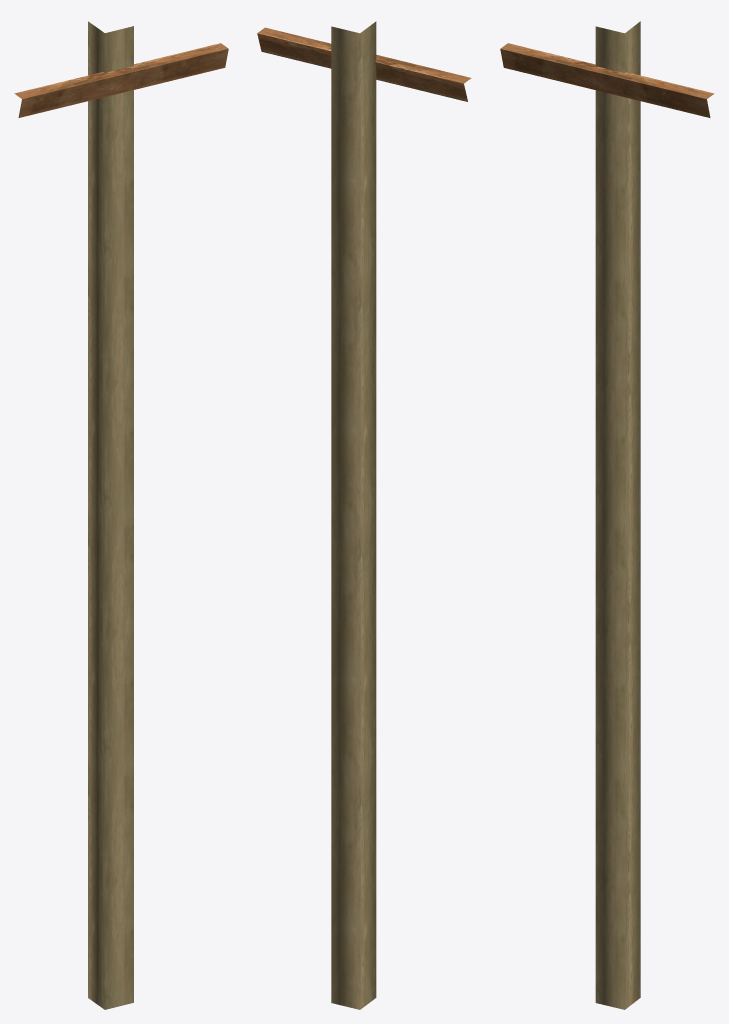
The model's file is power-pole-cbj_LOD02.gltf.
3 views of the same model, side by side, from view 1: azimuth 30°, elevation 25°; view 2: azimuth 150°, elevation 25°; view 3: azimuth 330°, elevation 25° (orthographic).
Visible parts, largest first — view 1: power-pole2; view 2: power-pole2; view 3: power-pole2.
Part boxes in pixels (x1=…): power-pole2: x1=14, y1=21, x2=228, y2=1009; power-pole2: x1=257, y1=21, x2=471, y2=1009; power-pole2: x1=500, y1=21, x2=714, y2=1009.
Size of the model in its own units: 2.88 by 13 by 0.5543.
